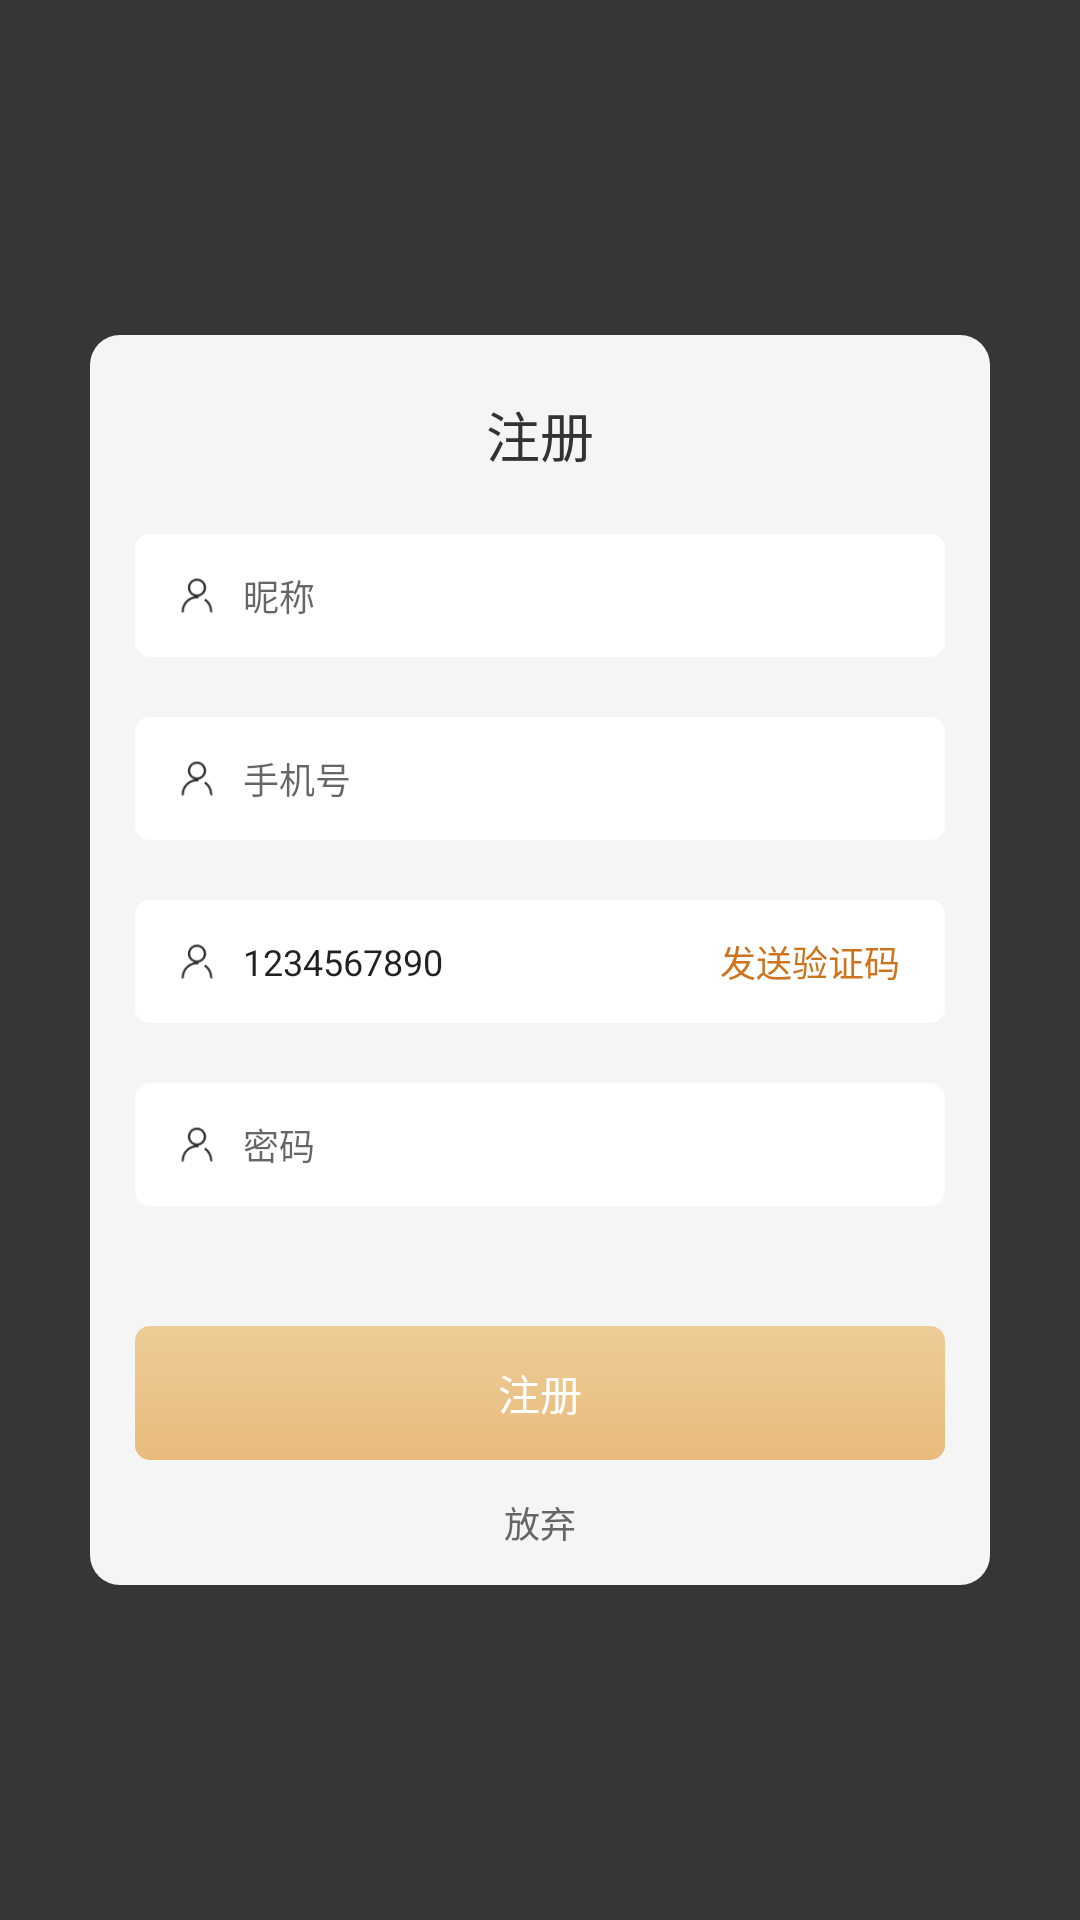

Locate icon controls on the screen. Image size 1080 x 1920, boxes as (x1, y1, x2, y2).
user: (181, 578, 213, 613), (181, 761, 213, 796), (181, 944, 213, 979), (181, 1127, 213, 1162)
